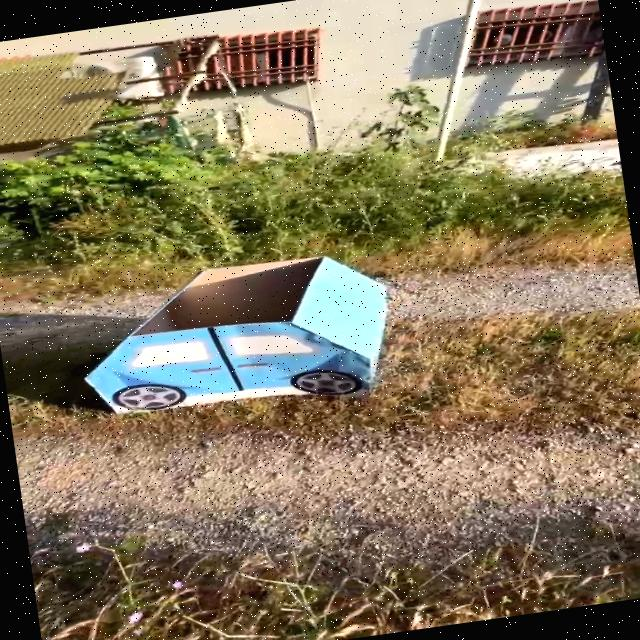blue_car: (25, 222, 460, 464)
